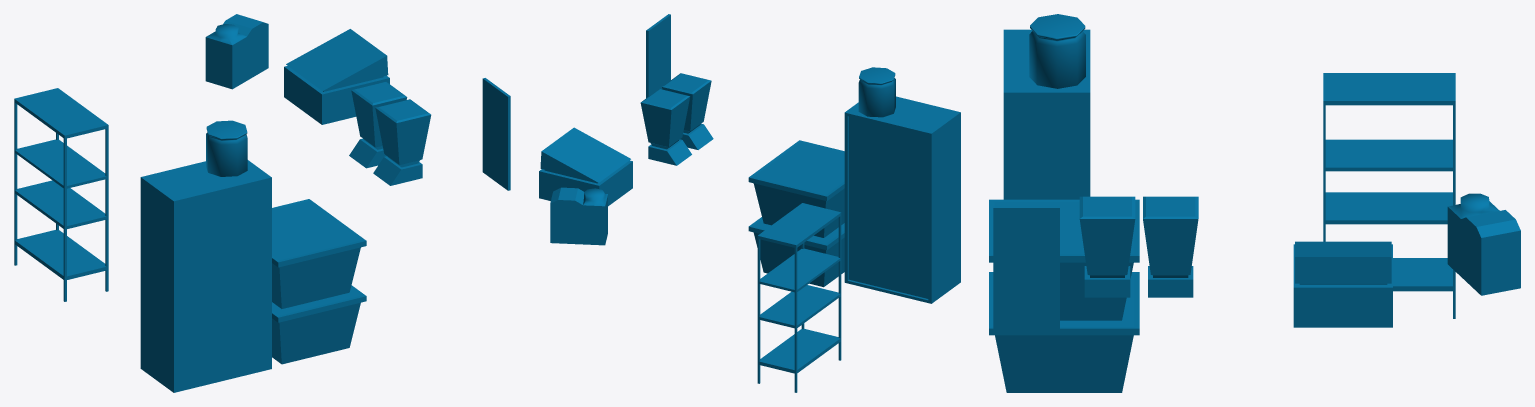
File: chillaz.fbx
3 renders of one model, left to right at view 1: azimuth 30°, elevation 25°; view 2: azimuth 150°, elevation 25°; view 3: azimuth 270°, elevation 25°, orthographic. The views are drawn at different scales.
Parts seen in each view (by area): view 1: fridge, boxes, shelf, cashier, blender, water_container, menu, whey; view 2: fridge, shelf, boxes, blender, cashier, water_container, whey, menu; view 3: shelf, boxes, fridge, blender, cashier, menu, water_container, whey.
Boxes of the visible parts, left/top/right/bottom form: fridge: left=140, top=160, right=271, bottom=392; boxes: left=272, top=199, right=366, bottom=364; shelf: left=14, top=88, right=108, bottom=301; cashier: left=284, top=29, right=389, bottom=124; blender: left=349, top=81, right=431, bottom=185; water_container: left=205, top=14, right=268, bottom=89; menu: left=482, top=78, right=510, bottom=190; whey: left=206, top=120, right=247, bottom=176; fridge: left=844, top=96, right=960, bottom=303; shelf: left=757, top=203, right=841, bottom=392; boxes: left=748, top=140, right=844, bottom=287; blender: left=640, top=73, right=713, bottom=165; cashier: left=539, top=127, right=632, bottom=206; water_container: left=550, top=187, right=607, bottom=245; whey: left=858, top=67, right=895, bottom=117; menu: left=646, top=14, right=670, bottom=98; shelf: left=1323, top=73, right=1455, bottom=318; boxes: left=989, top=199, right=1139, bottom=392; fridge: left=1003, top=29, right=1090, bottom=199; blender: left=1079, top=196, right=1198, bottom=297; cashier: left=1293, top=241, right=1392, bottom=327; menu: left=993, top=206, right=1059, bottom=330; water_container: left=1447, top=193, right=1520, bottom=295; whey: left=1029, top=14, right=1085, bottom=88.
Size of the model in its own units: 327 by 218 by 345.
